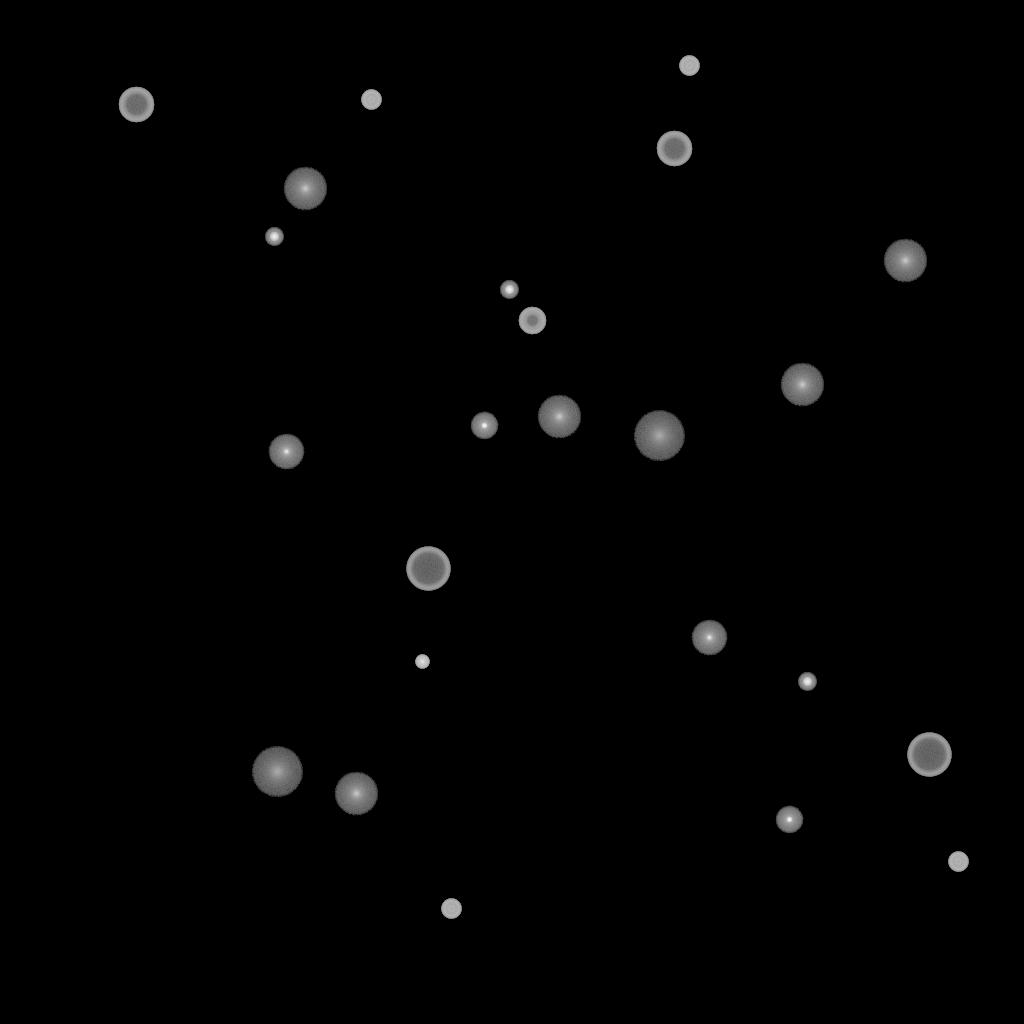depth:-10: (470, 412, 498, 440), (775, 806, 803, 834)
depth:-20: (798, 673, 816, 691), (265, 228, 283, 246), (500, 281, 518, 299)
depth:-30: (415, 655, 429, 669)
depth:-40: (441, 899, 461, 919), (948, 852, 968, 872), (679, 56, 699, 76), (361, 90, 381, 110)
depth:-50: (518, 307, 546, 335)
depth:-60: (656, 131, 692, 167), (118, 87, 154, 123)
depth:-70: (907, 733, 951, 777), (406, 547, 450, 591)
depth:0: (268, 434, 304, 470), (691, 620, 727, 656)
depth:10: (780, 363, 824, 407), (883, 239, 927, 283), (283, 167, 327, 211), (334, 772, 378, 816), (537, 395, 581, 439)
depth:20: (251, 747, 303, 797), (633, 411, 685, 461)
